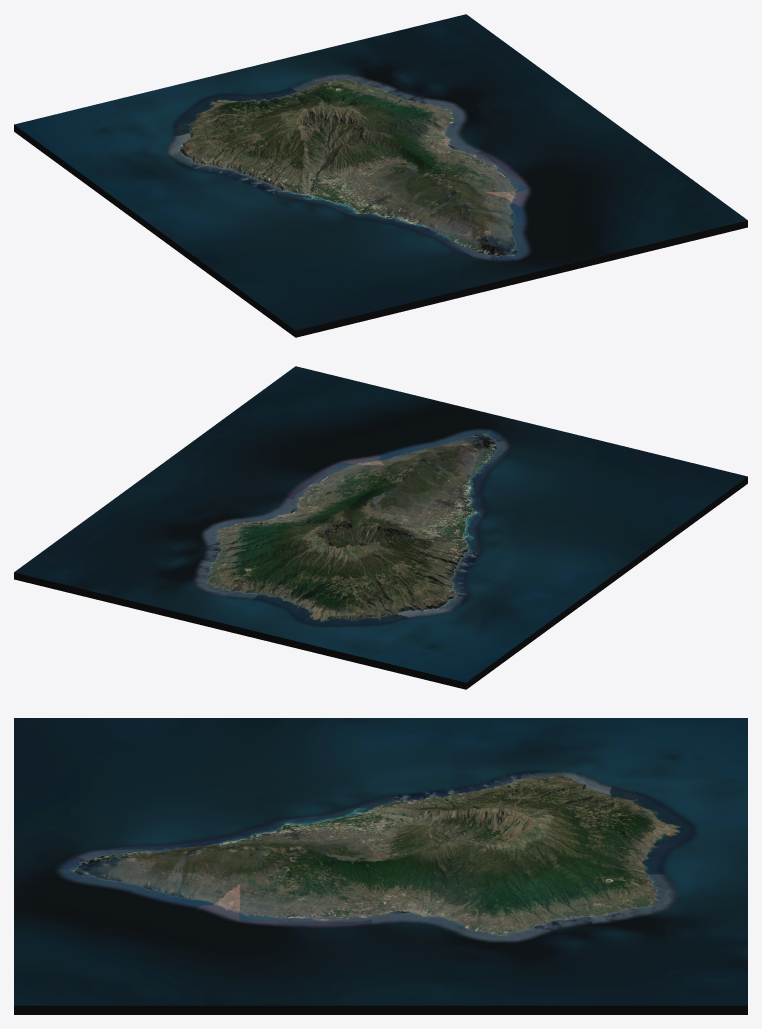
Rendered from isla-tortuga.glb.
3 renders of one model, top to bottom at view 1: azimuth 30°, elevation 25°; view 2: azimuth 150°, elevation 25°; view 3: azimuth 270°, elevation 25°, orthographic. The views are drawn at different scales.
Visible parts, largest first — view 1: dsm_6, side_0, side_2; view 2: dsm_6, side_1, side_2; view 3: dsm_6, side_3.
Part boxes in pixels (<box>): dsm_6: <box>14,14,747,330</box>; side_0: <box>295,220,747,337</box>; side_2: <box>14,125,295,337</box>; dsm_6: <box>14,366,747,682</box>; side_1: <box>14,572,466,689</box>; side_2: <box>466,477,747,689</box>; dsm_6: <box>14,718,747,1005</box>; side_3: <box>14,1005,747,1014</box>.
Bounding box in the file's own units: 100 × 6.75 × 108.
Materials: 2 (1 with a texture image).
